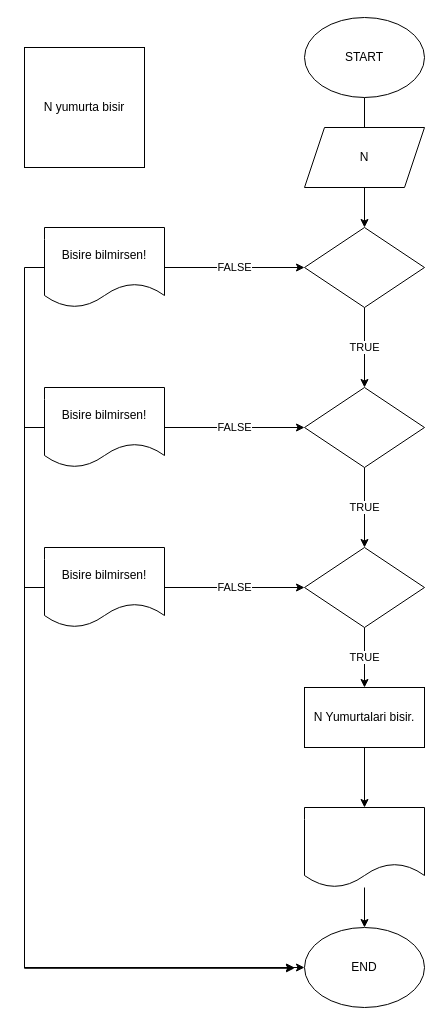
This 442x1025 diagram has some shape labels left out. Each missing label, with the box of its shape:
N Yumurta bisdi!: (304, 806, 424, 888)
N Yumurta varmi?: (304, 226, 424, 308)
Qazan varmi?: (304, 546, 424, 628)
Yag varmi?: (304, 386, 424, 468)
